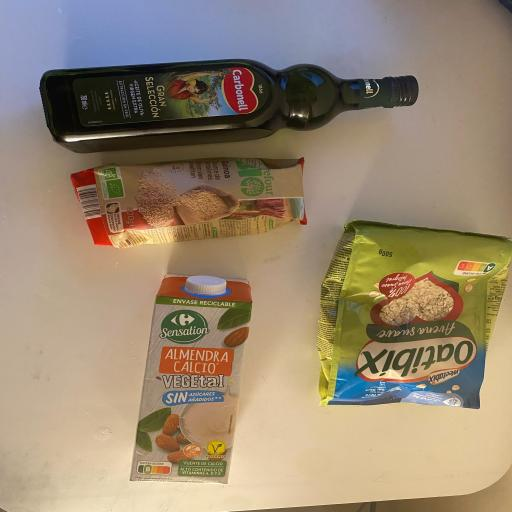olive_oil: (36, 56, 422, 154)
quinoa: (126, 272, 254, 490), (70, 154, 311, 249)
